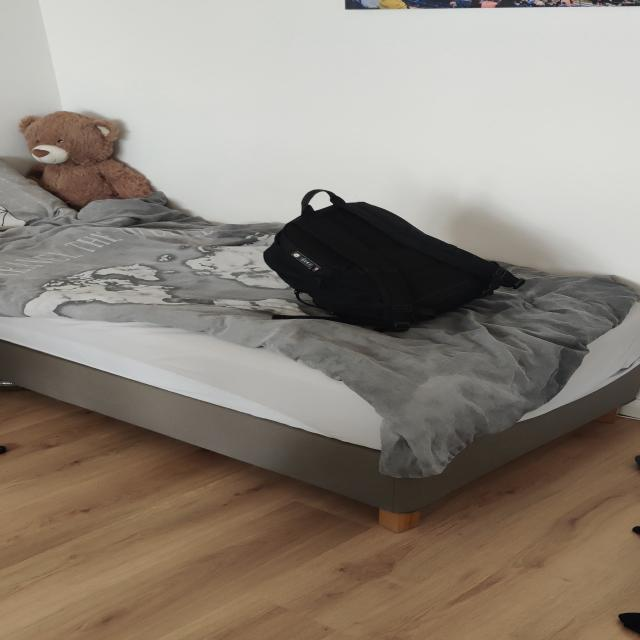backpack: (249, 192, 523, 334)
